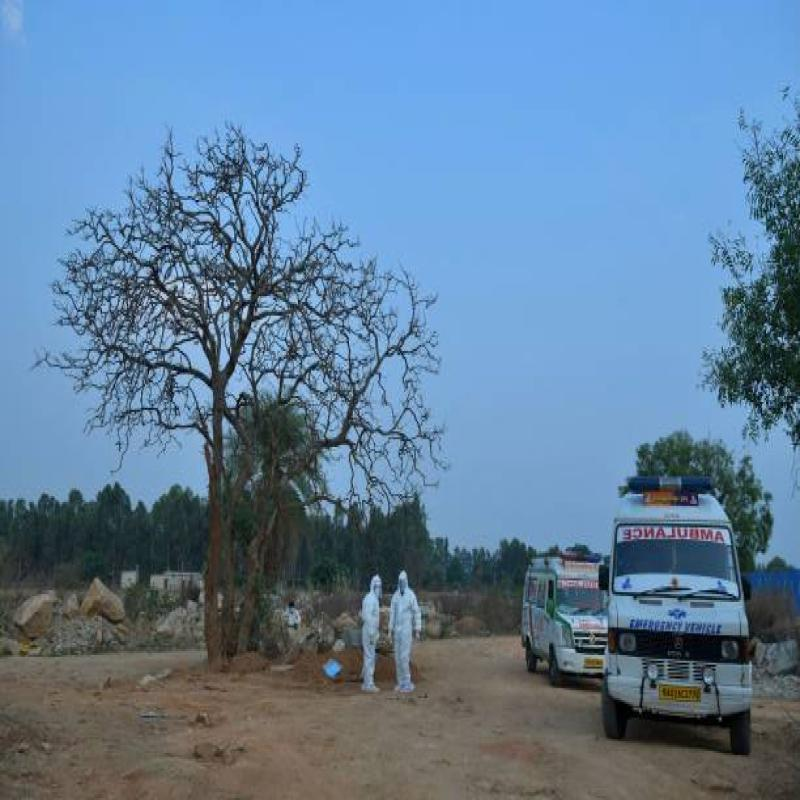ambulance: (599, 437, 766, 739)
